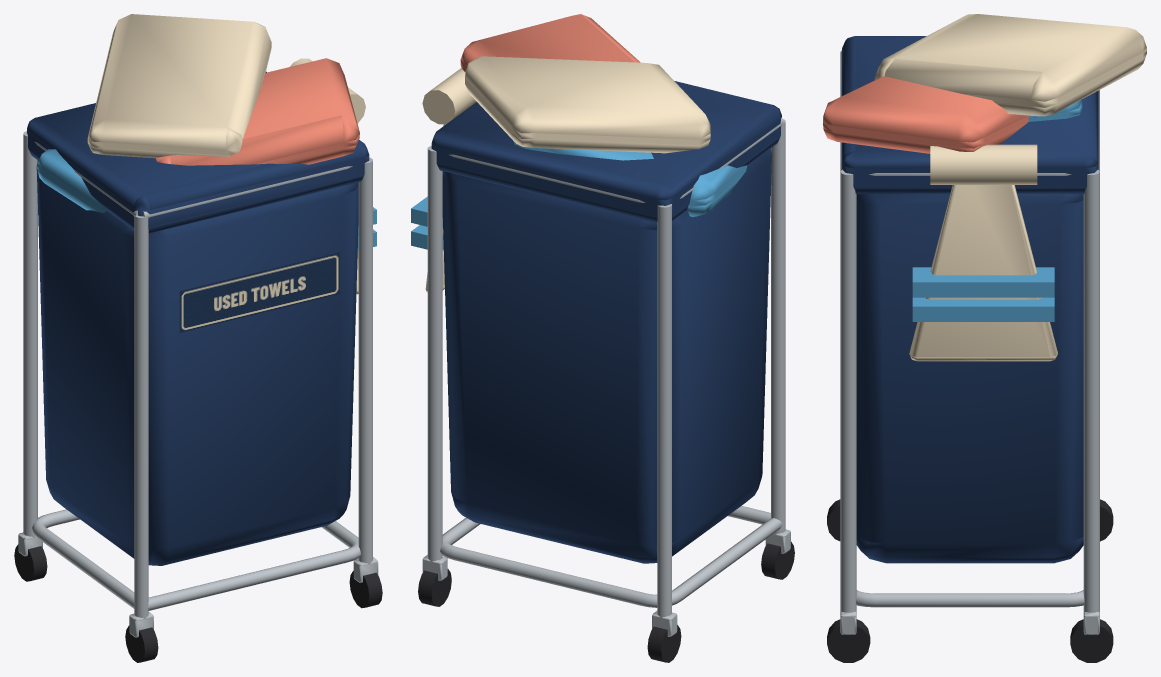
Rendered from laundry_hamper.glb.
The picture shows the model from 3 angles, left to right: view 1: azimuth 30°, elevation 25°; view 2: azimuth 150°, elevation 25°; view 3: azimuth 270°, elevation 25°; orthographic projection. The views are drawn at different scales.
Visible parts, largest first — view 1: LaundryHamperBody; view 2: LaundryHamperBody; view 3: LaundryHamperBody.
Part boxes in pixels (bbox=[...]): LaundryHamperBody: bbox=[14, 14, 382, 662]; LaundryHamperBody: bbox=[411, 14, 794, 662]; LaundryHamperBody: bbox=[823, 14, 1146, 662].
Bounding box in the file's own units: 0.532 × 0.9385 × 0.4795.
7 materials, 1 textured.
